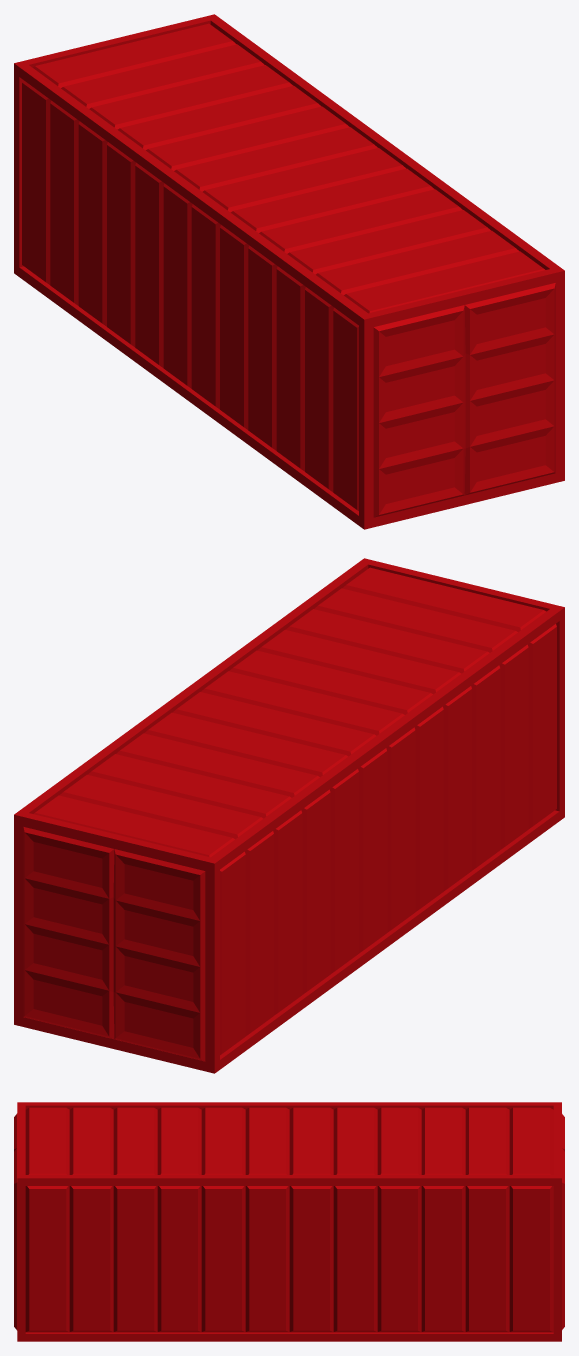
Rendered from container.fbx.
3 renders of one model, top to bottom at view 1: azimuth 30°, elevation 25°; view 2: azimuth 150°, elevation 25°; view 3: azimuth 270°, elevation 25°, orthographic. The views are drawn at different scales.
Visible parts, largest first — view 1: container, container_door_r1, container_door_l1; view 2: container, container_door_l2, container_door_r2; view 3: container, container_door_l1, container_door_r2.
Part boxes in pixels (left/top/right/bottom): container: left=14, top=14, right=564, bottom=529; container_door_r1: left=373, top=305, right=465, bottom=517; container_door_l1: left=464, top=283, right=555, bottom=495; container: left=14, top=558, right=564, bottom=1073; container_door_l2: left=113, top=849, right=205, bottom=1061; container_door_r2: left=23, top=827, right=114, bottom=1038; container: left=17, top=1102, right=561, bottom=1341; container_door_l1: left=14, top=1148, right=17, bottom=1330; container_door_r2: left=562, top=1148, right=564, bottom=1329.
Size of the model in its own units: 200 by 200 by 612.
Materials: 1 (1 with a texture image).
